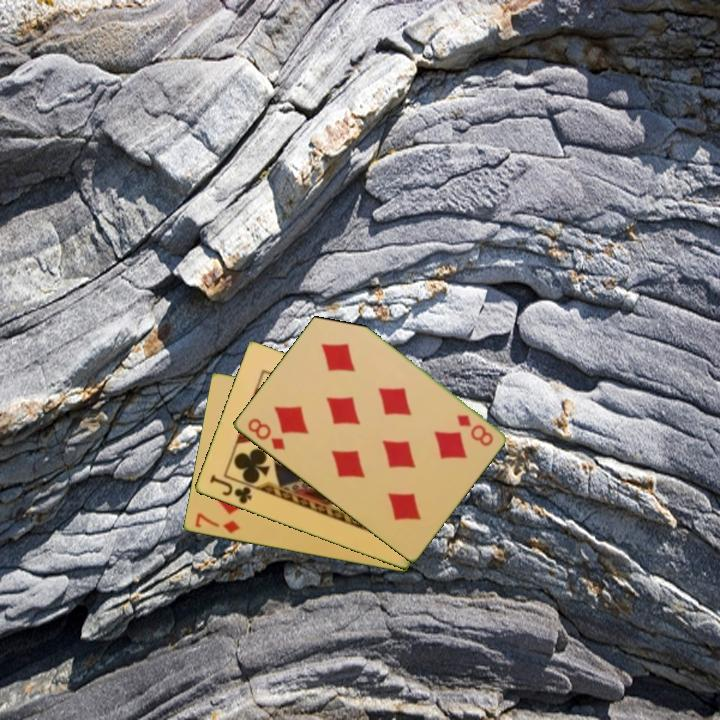7d: (191, 510, 243, 536)
8d: (243, 414, 288, 453), (453, 411, 496, 449)
Jc: (206, 472, 255, 507)
